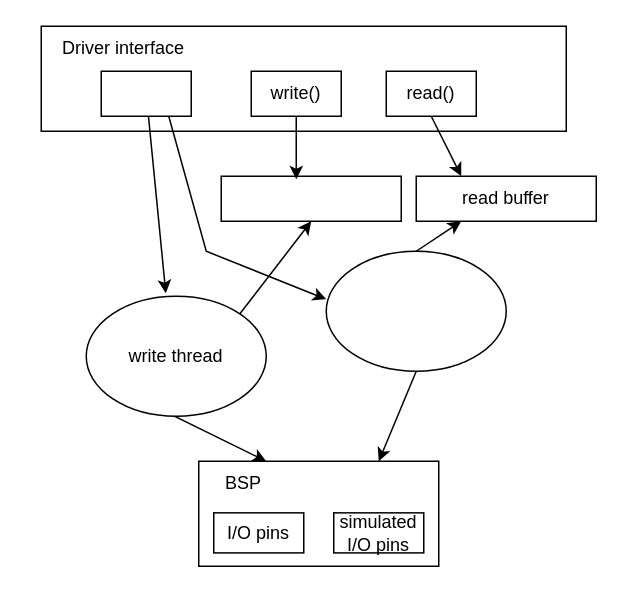
Image size: 623x593. Some labels were removed from this diagram. Each missing label, with the box of its shape:
init(): (100, 70, 191, 116)
read thread: (325, 250, 506, 371)
write buffer: (220, 175, 401, 221)
